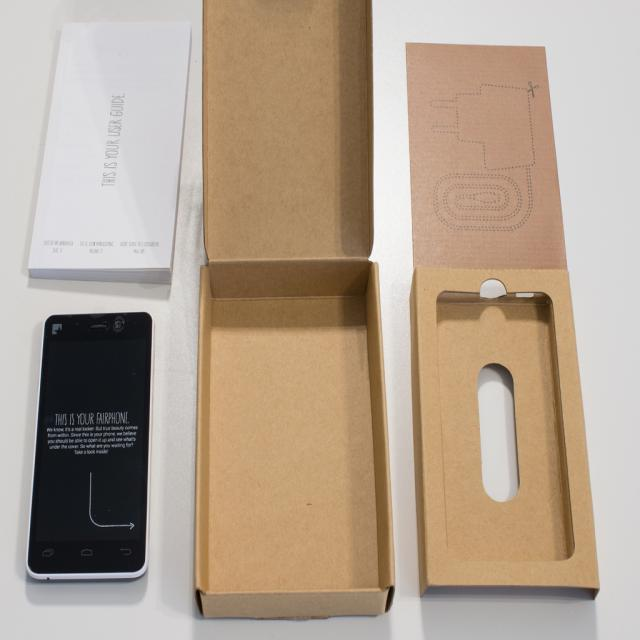Mobile-phone: (17, 298, 162, 600)
